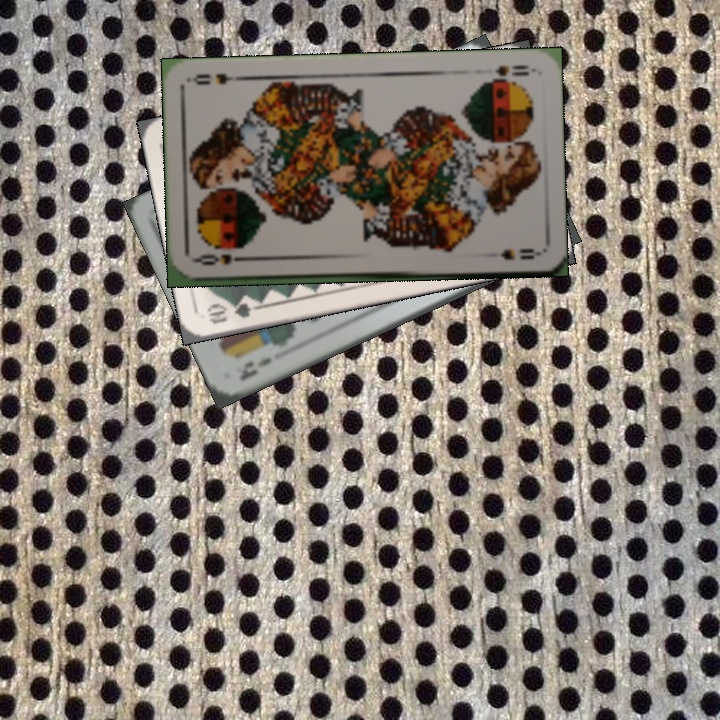EK: (235, 353, 275, 383)
G10: (203, 297, 262, 327)
SO: (192, 250, 251, 268), (488, 61, 536, 83)
